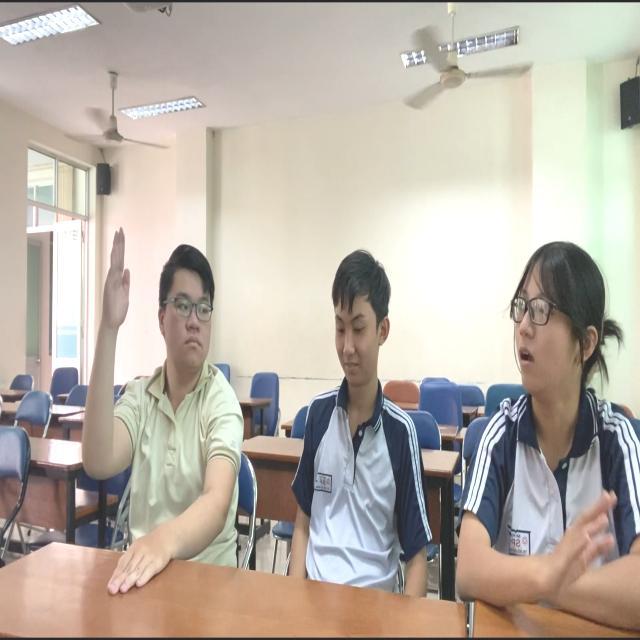raise_hand: (77, 219, 250, 609)
